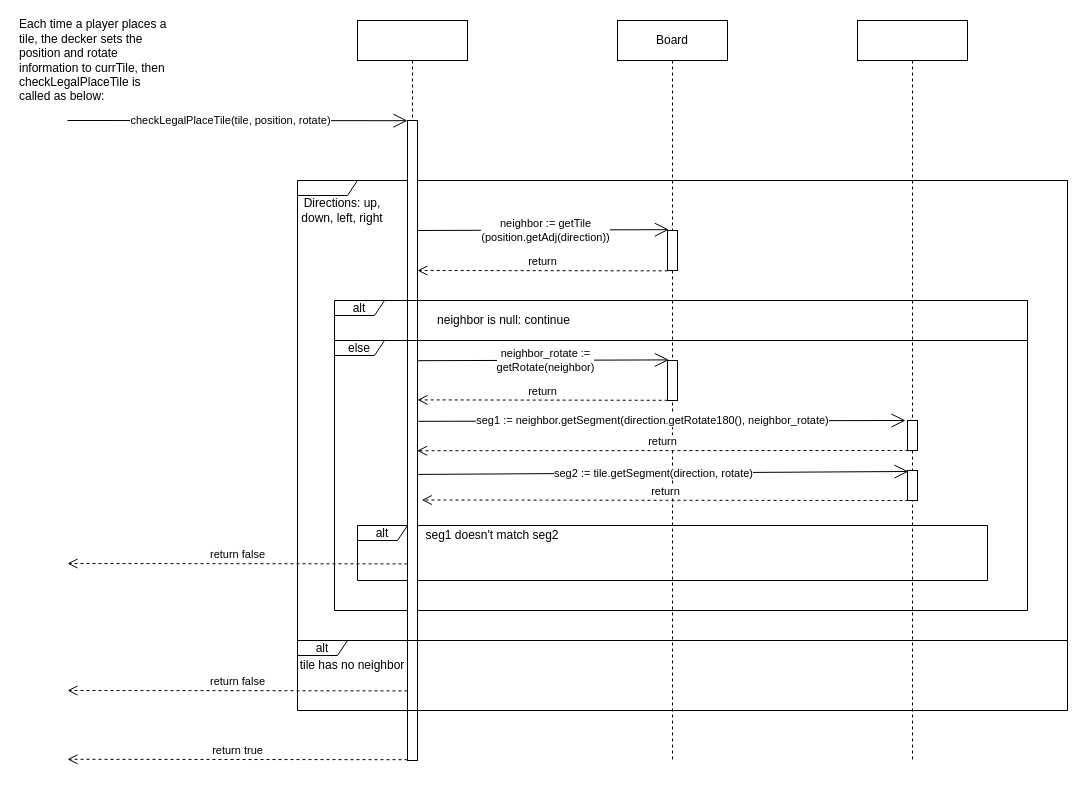
The diagram is 1085 pixels wide and 787 high, and some of its shapes have lost their labels. Here are the shapes that lost their labels. From the top down, the box of each, then its label:
(356, 20, 468, 760): GameManagement
(296, 180, 1068, 640): for
(856, 20, 968, 760): Tile
